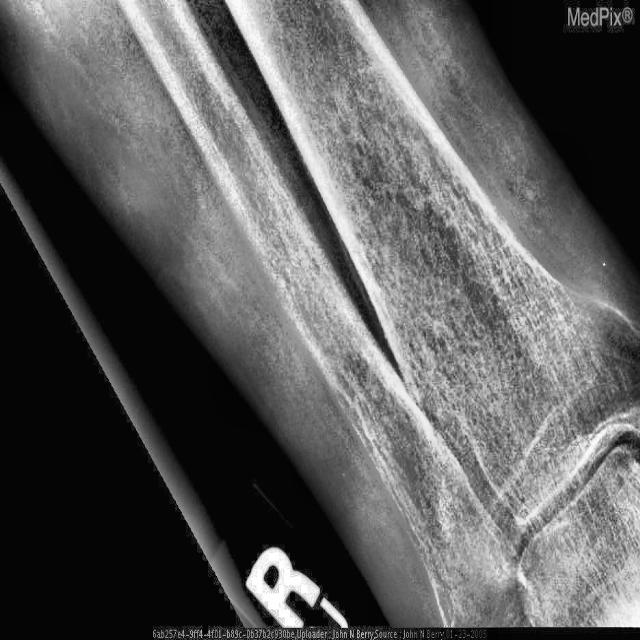line: (481, 364, 600, 529)
